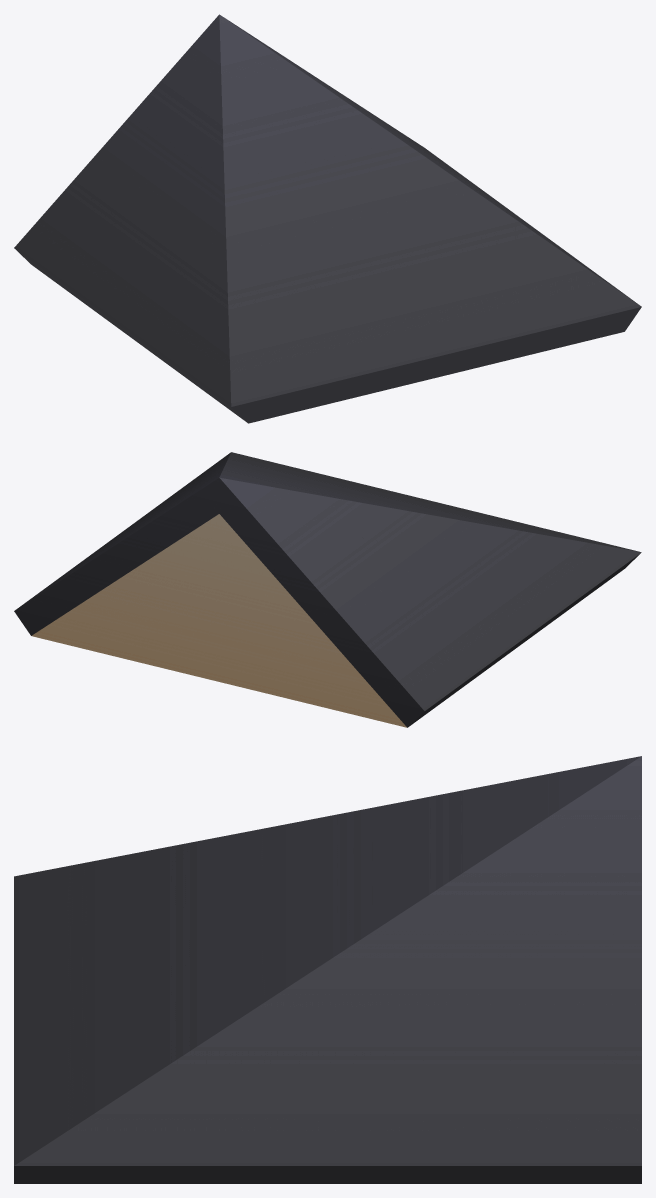
Rendered from roof-gable-end.glb.
The picture shows the model from 3 angles, top to bottom: view 1: azimuth 30°, elevation 25°; view 2: azimuth 150°, elevation 25°; view 3: azimuth 270°, elevation 25°; orthographic projection. The views are drawn at different scales.
Visible parts, largest first — view 1: roof-gable-end; view 2: roof-gable-end; view 3: roof-gable-end.
Boxes of the visible parts, x1,y1,x2,y2 form: roof-gable-end: (14, 14, 641, 423); roof-gable-end: (14, 452, 641, 727); roof-gable-end: (14, 756, 641, 1183).
Bounding box in the file's own units: 1.09 × 0.5188 × 1.
1 material, 1 textured.
